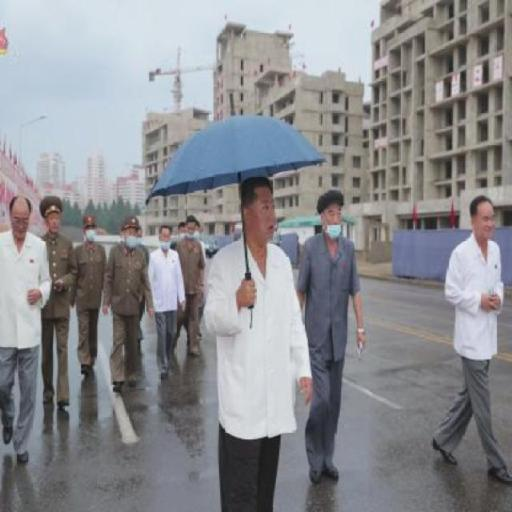guarda_chuva: (144, 113, 327, 328)
